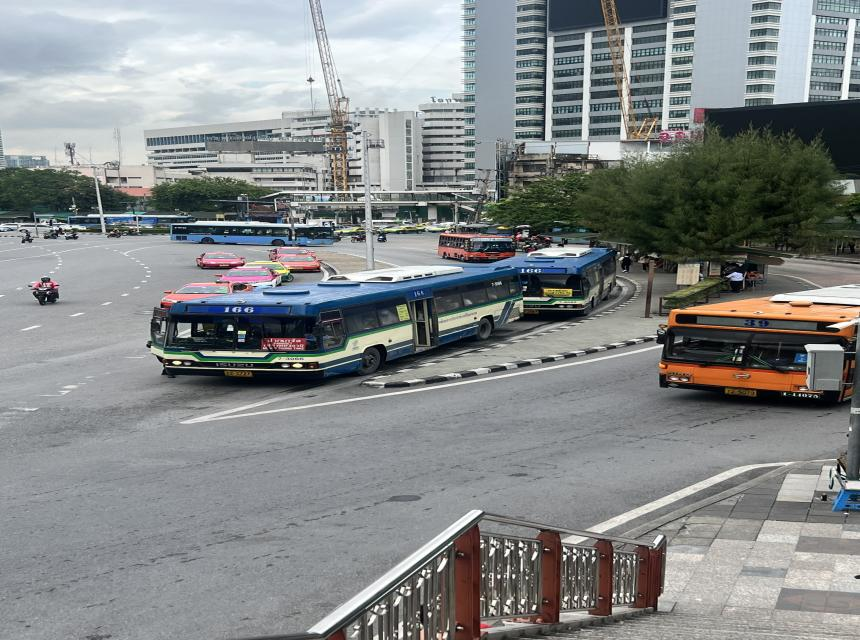BMTA-bus: (150, 264, 526, 379), (657, 289, 860, 406), (496, 248, 621, 319), (170, 221, 338, 247), (100, 214, 198, 227)
Bus Line Number: (737, 318, 776, 329), (218, 306, 261, 314), (519, 267, 545, 274)
Bus Side Number: (783, 391, 820, 400), (274, 357, 306, 361), (556, 301, 578, 305)
Destination Sign: (262, 337, 306, 352), (541, 289, 574, 297), (793, 354, 806, 364)
